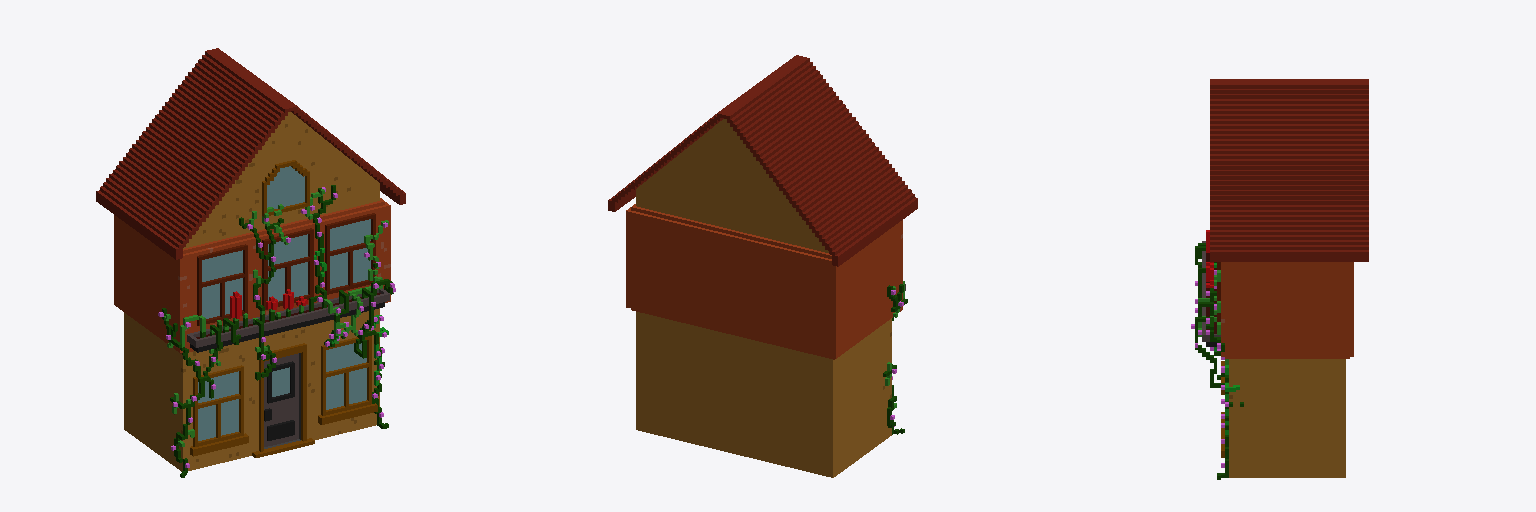
The picture shows the model from 3 angles: view 1: azimuth 30°, elevation 25°; view 2: azimuth 150°, elevation 25°; view 3: azimuth 270°, elevation 25°; orthographic projection.
Visible parts, largest first — view 1: object 1; view 2: object 1; view 3: object 1.
Boxes of the visible parts, x1=… form: object 1: x1=96, y1=48, x2=405, y2=477; object 1: x1=608, y1=55, x2=917, y2=477; object 1: x1=1191, y1=79, x2=1368, y2=479.
Size of the model in its own units: 7 by 10.1 by 4.7.
Materials: 1 (1 with a texture image).